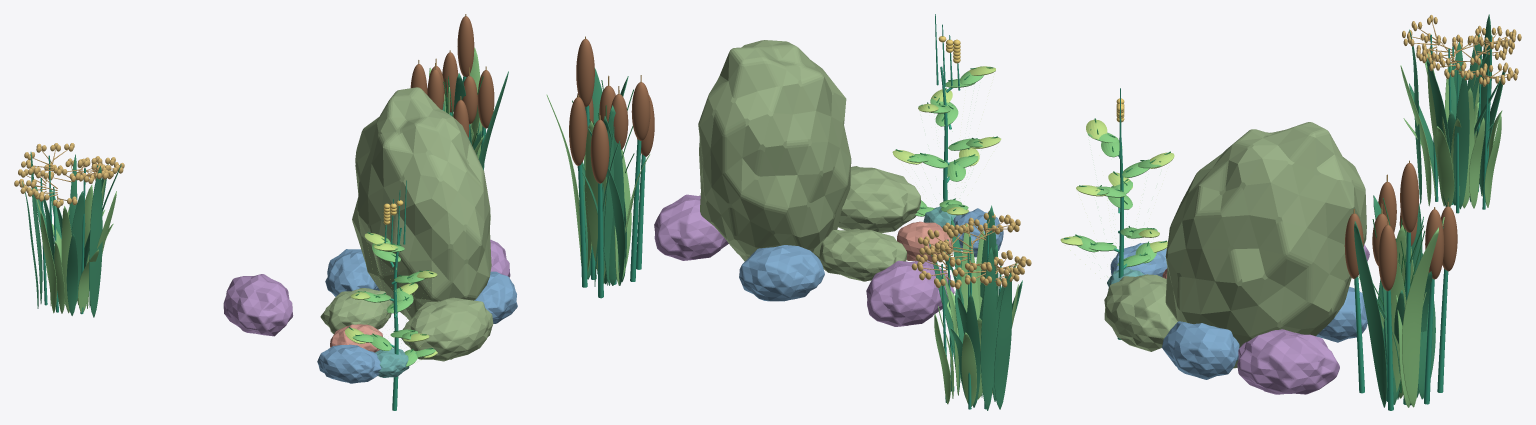
Rendered from weedsandstones.glb.
The picture shows the model from 3 angles, left to right: view 1: azimuth 30°, elevation 25°; view 2: azimuth 150°, elevation 25°; view 3: azimuth 270°, elevation 25°; orthographic projection. The views are drawn at different scales.
Visible parts, largest first — view 1: ColorStone_06.005, ColorStone_06.003, ColorStone_03, ColorStone_06, ColorStone_07, ColorStone_01, ReedLeaf_24, ColorStone_01.002, CattailHead_01, CattailHead_08, ColorStone_08, ReedLeaf_08 (+13 smaller); view 2: ColorStone_06.005, ColorStone_06.003, ColorStone_03, ColorStone_01, ColorStone_06, ColorStone_03.001, ReedLeaf_02, ReedLeaf_10, CattailLeaf_08, ColorStone_04, CattailLeaf_07, CattailHead_02 (+21 smaller); view 3: ColorStone_06.005, ColorStone_03.001, ColorStone_06.003, ColorStone_01.002, CattailLeaf_04, CattailLeaf_20, ReedLeaf_22, ColorStone_01, CattailHead_01, CattailHead_08, ReedLeaf_27, CattailHead_02 (+22 smaller).
Part boxes in pixels (left/top/right/bottom): ColorStone_06.005: left=352, top=87, right=491, bottom=320; ColorStone_06.003: left=401, top=297, right=493, bottom=361; ColorStone_03: left=223, top=274, right=293, bottom=336; ColorStone_06: left=320, top=288, right=392, bottom=333; ColorStone_07: left=317, top=344, right=381, bottom=383; ColorStone_01: left=325, top=249, right=379, bottom=296; ReedLeaf_24: left=89, top=166, right=102, bottom=317; ColorStone_01.002: left=474, top=271, right=517, bottom=323; CattailHead_01: left=457, top=16, right=474, bottom=77; CattailHead_08: left=477, top=70, right=494, bottom=128; ColorStone_08: left=374, top=348, right=409, bottom=377; ReedLeaf_08: left=66, top=233, right=77, bottom=315; ColorStone_06.005: left=698, top=40, right=851, bottom=261; ColorStone_06.003: left=838, top=166, right=920, bottom=233; ColorStone_03: left=866, top=260, right=954, bottom=326; ColorStone_01: left=739, top=245, right=824, bottom=301; ColorStone_06: left=813, top=228, right=907, bottom=281; ColorStone_03.001: left=654, top=194, right=728, bottom=260; ReedLeaf_02: left=980, top=247, right=996, bottom=410; ReedLeaf_10: left=994, top=272, right=1011, bottom=409; CattailLeaf_08: left=604, top=105, right=624, bottom=285; ColorStone_04: left=897, top=221, right=953, bottom=262; CattailLeaf_07: left=585, top=121, right=606, bottom=283; CattailHead_02: left=569, top=97, right=587, bottom=165; ColorStone_06.005: left=1165, top=122, right=1366, bottom=368; ColorStone_03.001: left=1237, top=329, right=1339, bottom=394; ColorStone_06.003: left=1104, top=274, right=1177, bottom=351; ColorStone_01.002: left=1162, top=321, right=1239, bottom=379; CattailLeaf_04: left=1402, top=227, right=1438, bottom=407; CattailLeaf_20: left=1354, top=221, right=1387, bottom=407; ReedLeaf_22: left=1453, top=75, right=1469, bottom=209; ColorStone_01: left=1316, top=287, right=1367, bottom=342; CattailHead_01: left=1400, top=163, right=1418, bottom=232; CattailHead_08: left=1378, top=225, right=1397, bottom=291; ReedLeaf_27: left=1436, top=126, right=1454, bottom=206; CattailHead_02: left=1425, top=209, right=1444, bottom=279.
Bounding box in the file's own units: 8.17 × 4.51 × 6.54.
